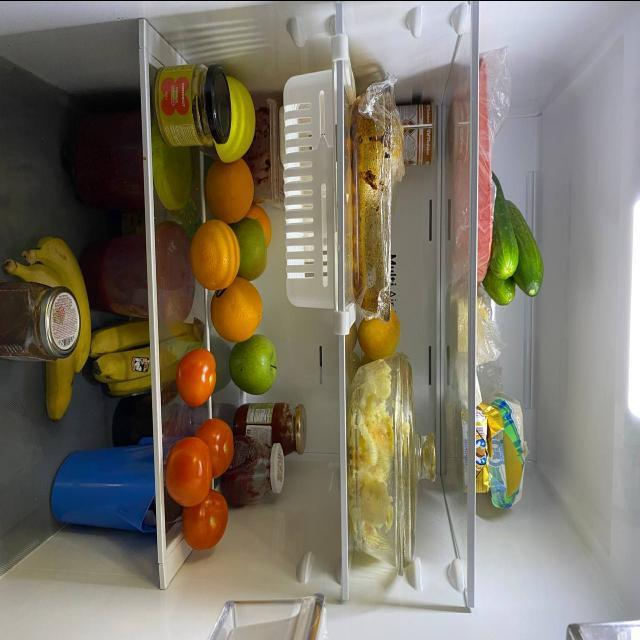Apple: (231, 334, 282, 394), (233, 214, 266, 280), (358, 304, 401, 354)
Banana: (19, 232, 88, 432), (91, 313, 207, 395)
Cucumber: (511, 182, 541, 300), (495, 163, 518, 277), (487, 259, 515, 301)
Orange: (190, 210, 239, 292), (213, 270, 265, 344), (205, 150, 253, 222), (245, 204, 273, 242)
Tomato: (176, 492, 232, 555), (168, 434, 213, 504), (178, 347, 216, 409), (199, 418, 236, 480)
